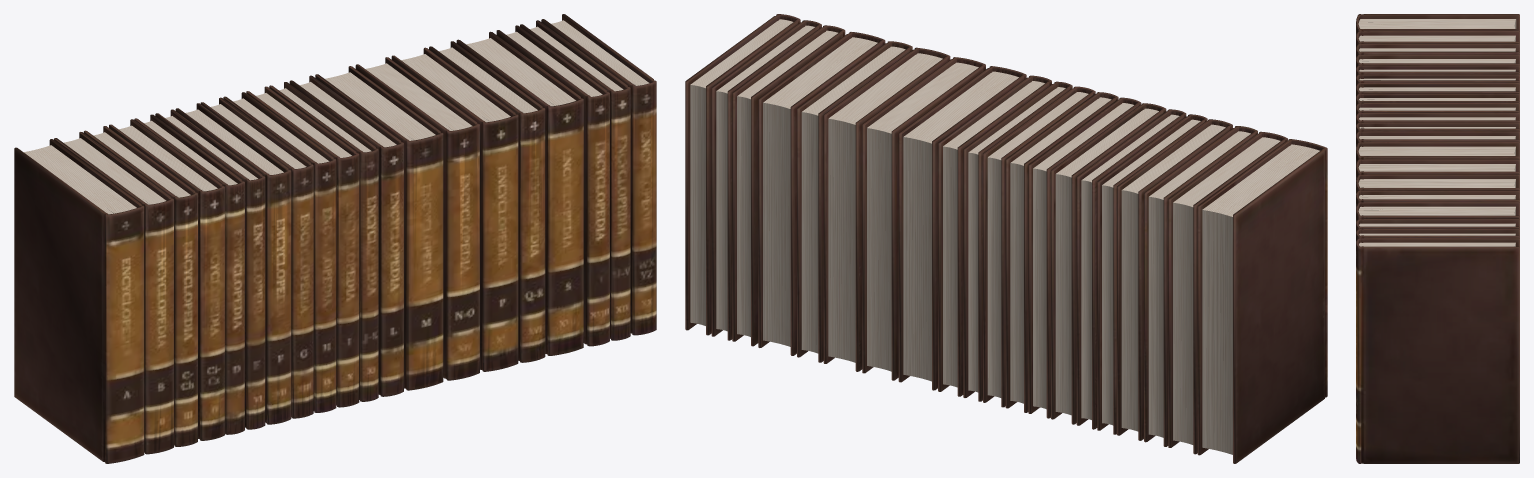
The model's file is book_encyclopedia_set_01.glb.
3 renders of one model, left to right at view 1: azimuth 30°, elevation 25°; view 2: azimuth 150°, elevation 25°; view 3: azimuth 270°, elevation 25°, orthographic. The views are drawn at different scales.
Visible parts, largest first — view 1: book_encyclopedia_set_01_book01, book_encyclopedia_set_01_book13, book_encyclopedia_set_01_book15, book_encyclopedia_set_01_book17, book_encyclopedia_set_01_book14, book_encyclopedia_set_01_book02, book_encyclopedia_set_01_book16, book_encyclopedia_set_01_book04, book_encyclopedia_set_01_book18, book_encyclopedia_set_01_book20, book_encyclopedia_set_01_book07, book_encyclopedia_set_01_book12 (+8 smaller); view 2: book_encyclopedia_set_01_book01, book_encyclopedia_set_01_book13, book_encyclopedia_set_01_book15, book_encyclopedia_set_01_book17, book_encyclopedia_set_01_book14, book_encyclopedia_set_01_book02, book_encyclopedia_set_01_book04, book_encyclopedia_set_01_book16, book_encyclopedia_set_01_book20, book_encyclopedia_set_01_book18, book_encyclopedia_set_01_book07, book_encyclopedia_set_01_book12 (+8 smaller); view 3: book_encyclopedia_set_01_book20, book_encyclopedia_set_01_book13, book_encyclopedia_set_01_book01, book_encyclopedia_set_01_book17, book_encyclopedia_set_01_book15, book_encyclopedia_set_01_book14, book_encyclopedia_set_01_book02, book_encyclopedia_set_01_book16, book_encyclopedia_set_01_book03, book_encyclopedia_set_01_book12, book_encyclopedia_set_01_book04, book_encyclopedia_set_01_book07 (+8 smaller).
Boxes of the visible parts, x1,y1,x2,y2 form: book_encyclopedia_set_01_book01: (14,139,144,463); book_encyclopedia_set_01_book13: (315,66,443,390); book_encyclopedia_set_01_book15: (391,47,518,371); book_encyclopedia_set_01_book17: (456,31,583,355); book_encyclopedia_set_01_book14: (355,57,479,380); book_encyclopedia_set_01_book02: (54,132,173,454); book_encyclopedia_set_01_book16: (429,41,545,362); book_encyclopedia_set_01_book04: (109,119,224,440); book_encyclopedia_set_01_book18: (496,25,609,346); book_encyclopedia_set_01_book20: (541,14,656,335); book_encyclopedia_set_01_book07: (175,103,291,424); book_encyclopedia_set_01_book12: (289,75,403,396); book_encyclopedia_set_01_book01: (1197,139,1327,463); book_encyclopedia_set_01_book13: (898,66,1026,390); book_encyclopedia_set_01_book15: (823,47,950,371); book_encyclopedia_set_01_book17: (758,32,885,355); book_encyclopedia_set_01_book14: (862,57,985,380); book_encyclopedia_set_01_book02: (1168,131,1287,454); book_encyclopedia_set_01_book04: (1117,119,1232,440); book_encyclopedia_set_01_book16: (797,41,912,362); book_encyclopedia_set_01_book20: (685,14,800,335); book_encyclopedia_set_01_book18: (732,25,845,346); book_encyclopedia_set_01_book07: (1051,103,1166,424); book_encyclopedia_set_01_book12: (938,75,1051,396); book_encyclopedia_set_01_book20: (1356,238,1519,463); book_encyclopedia_set_01_book13: (1356,142,1519,165); book_encyclopedia_set_01_book01: (1356,14,1519,35); book_encyclopedia_set_01_book17: (1356,202,1519,221); book_encyclopedia_set_01_book15: (1356,174,1519,194); book_encyclopedia_set_01_book14: (1356,159,1519,180); book_encyclopedia_set_01_book02: (1356,30,1519,47); book_encyclopedia_set_01_book16: (1356,190,1519,222); book_encyclopedia_set_01_book03: (1356,43,1519,58); book_encyclopedia_set_01_book12: (1356,131,1519,149); book_encyclopedia_set_01_book04: (1356,54,1519,69); book_encyclopedia_set_01_book07: (1356,82,1519,96).
Bounding box in the file's own units: 0.5513 × 0.2374 × 0.1631.
2 materials, 2 textured.
